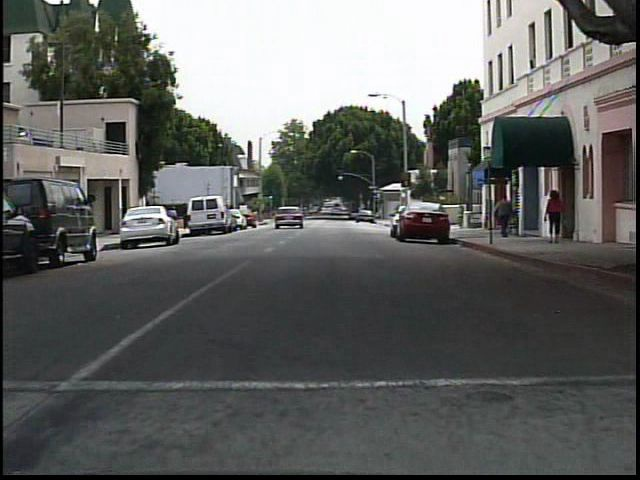person: (543, 188, 567, 246), (491, 192, 516, 240), (164, 200, 182, 235)
